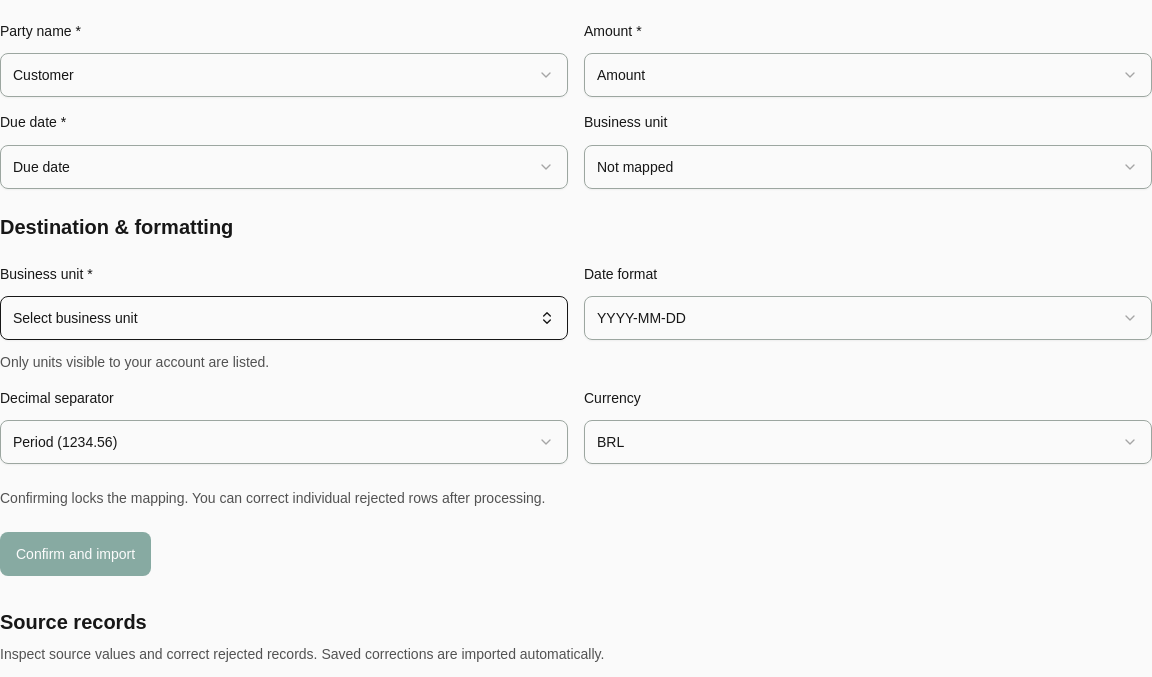
Test: maps a file, processes records and reports completion
The image size is (1152, 677).
(page scrolled)
Click the dropdown named "Business unit *" at (75, 318), box [0,296,568,340]
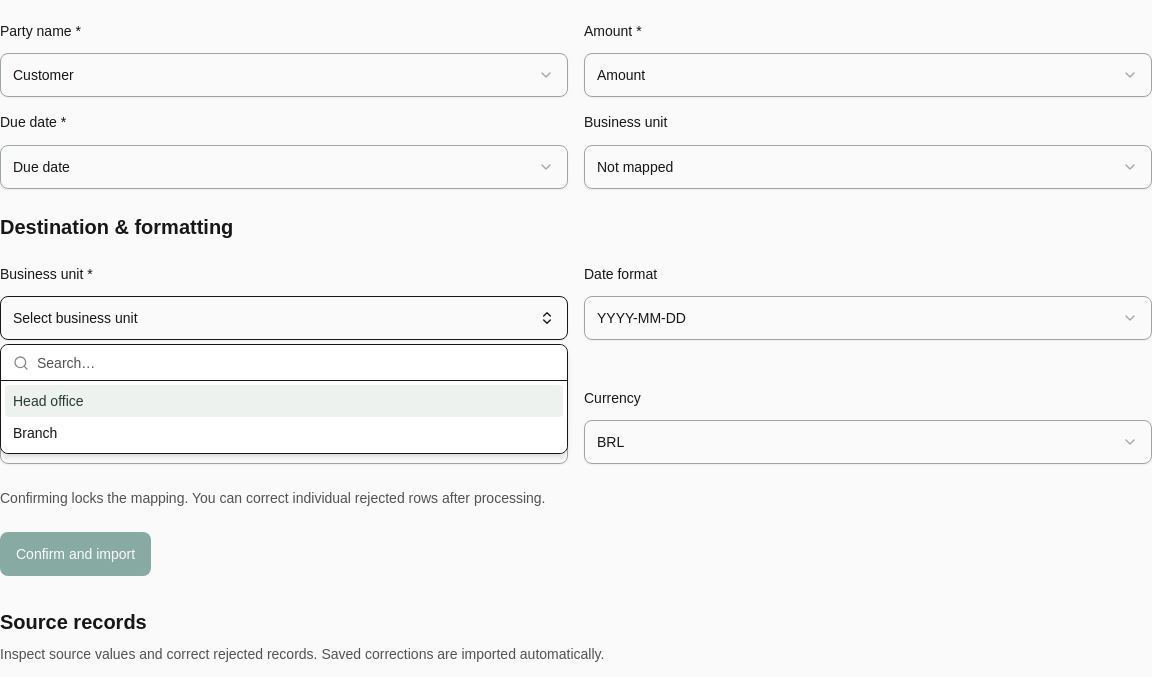
Click the option "Head office" at (48, 401), box [5,385,563,417]
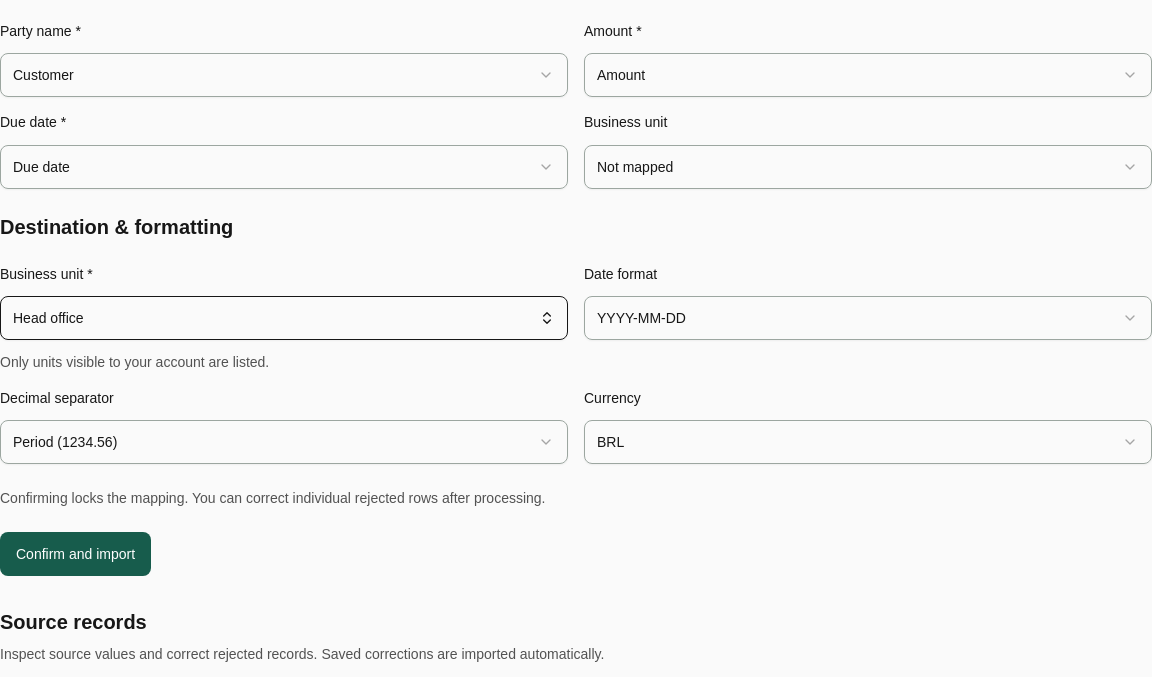
Select "Amount" in the dropdown labelled "Amount *" at (868, 75), box [584,53,1151,97]
Select "DD/MM/YYYY" in the dropdown labelled "Date format" at (868, 318), box [584,296,1151,340]
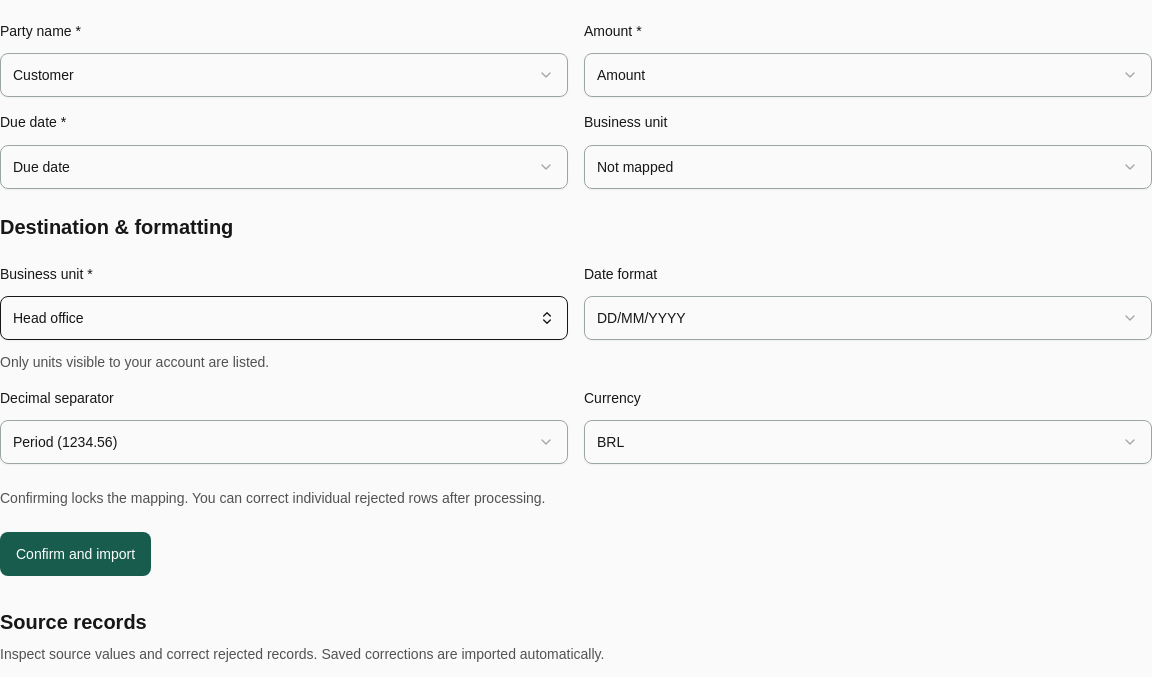
Select "Comma (1234,56)" in the dropdown labelled "Decimal separator" at (284, 442), box [0,420,568,464]
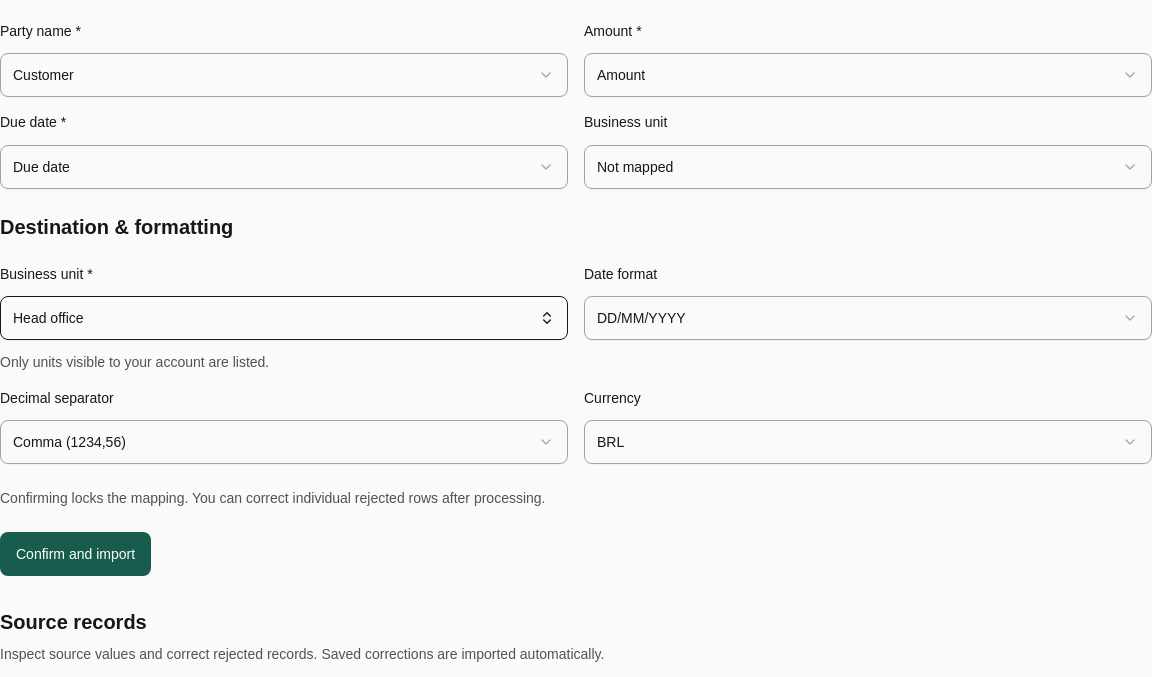
Select "USD" in the dropdown labelled "Currency" at (868, 442), box [584,420,1151,464]
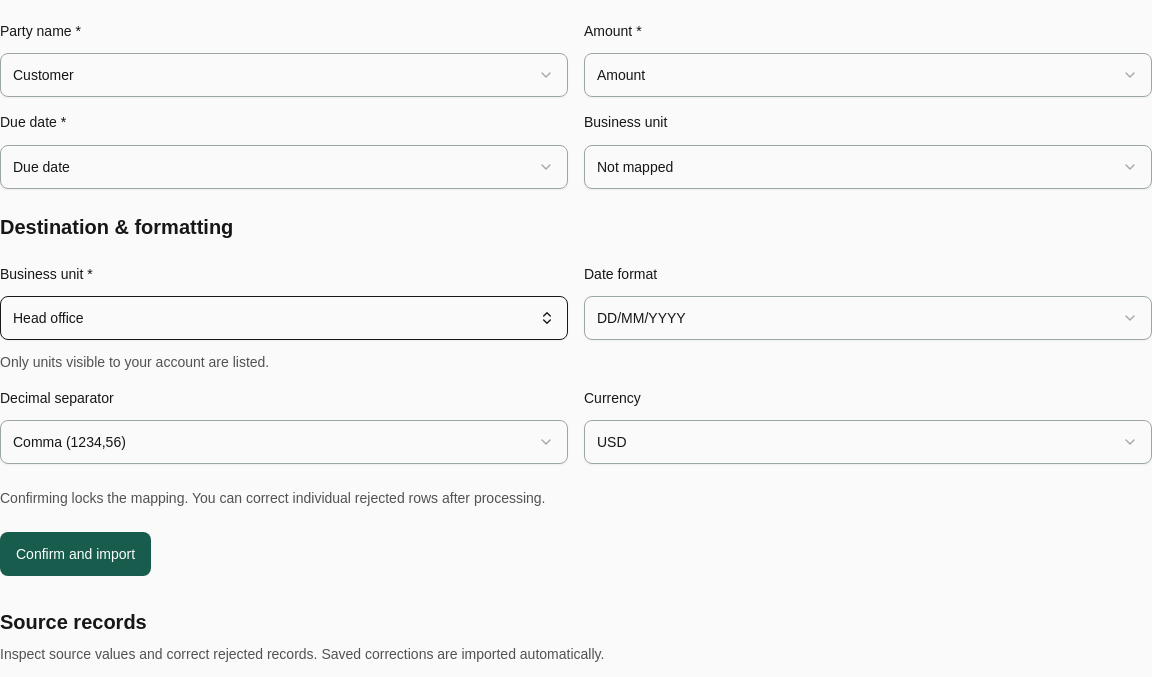
Click the button "Confirm and import" at (76, 554), box [0,532,151,576]
(page scrolled)
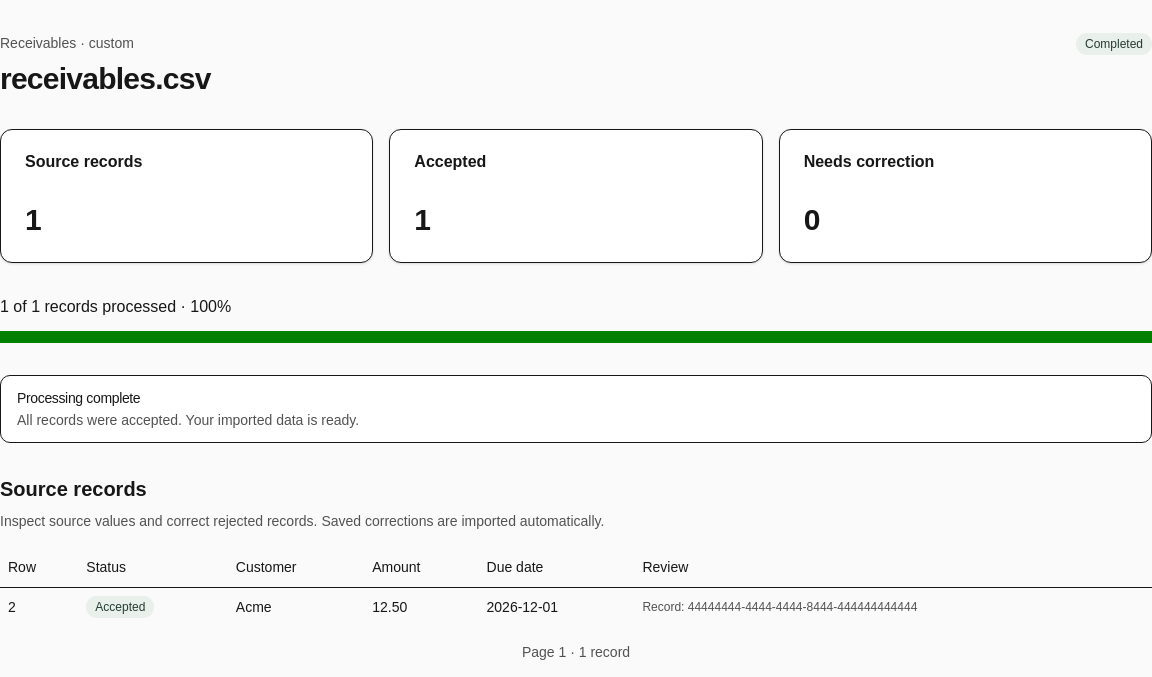
Expected: the progress indicator is shown, [0,331,1151,343]
Expected: the text "Processing complete" is shown, [17,390,140,406]
